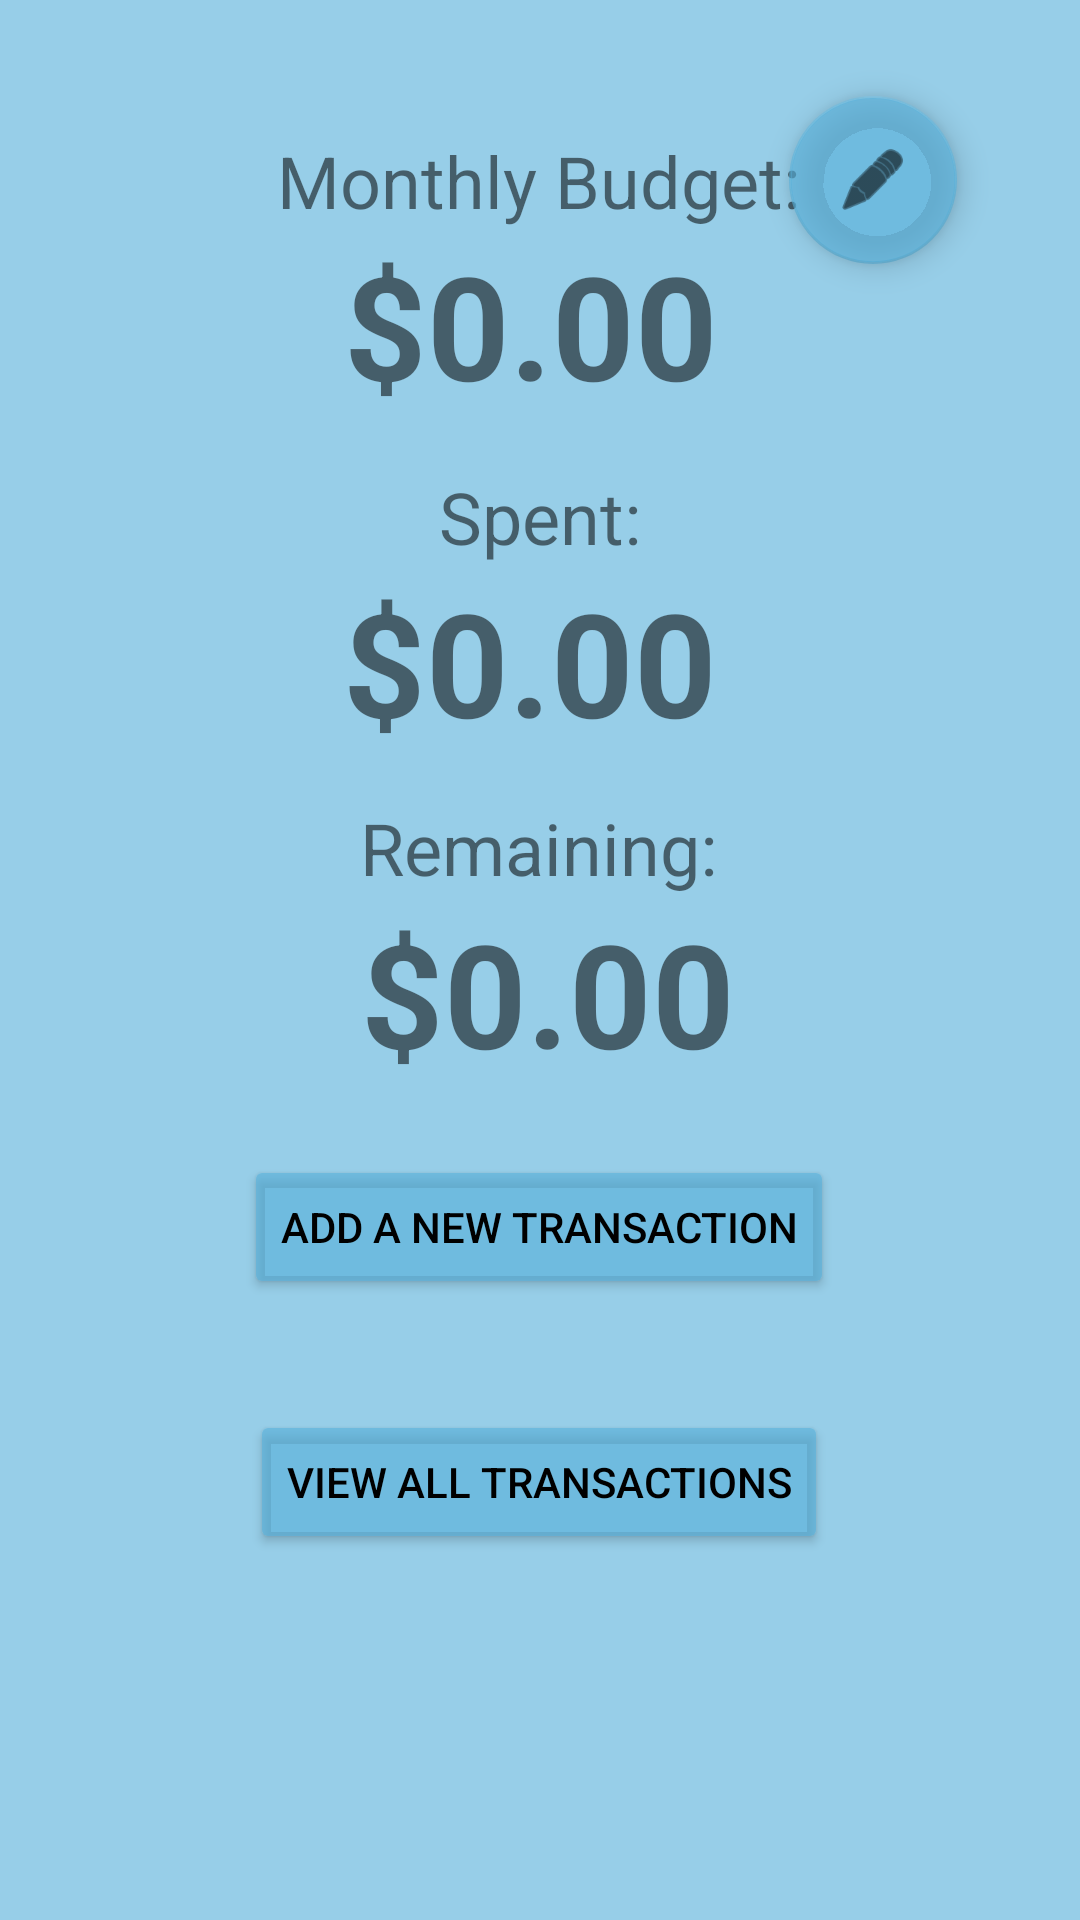

Locate icon controls on the screen. Image size 1080x1920, boxes as (x1, y1, x2, y2).
edit: (789, 97, 957, 264)
